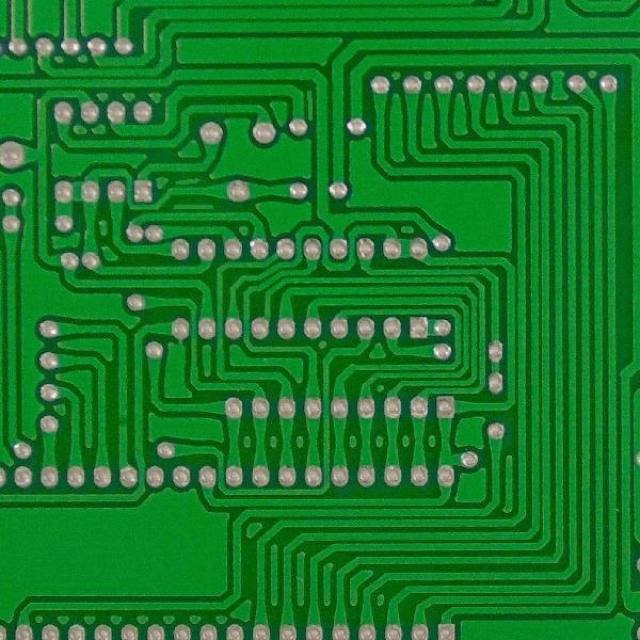spurious_copper: (302, 85, 320, 123), (170, 200, 216, 214), (172, 175, 202, 189)
